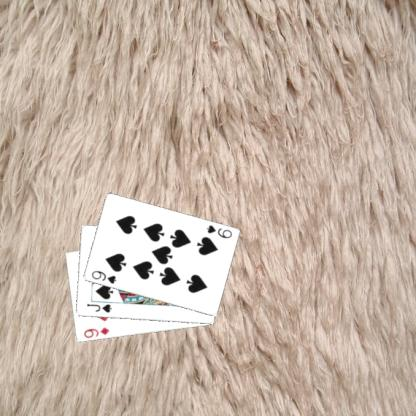9D: (81, 325, 110, 339)
9S: (88, 268, 118, 285), (204, 223, 233, 240)
JS: (84, 301, 113, 314)
